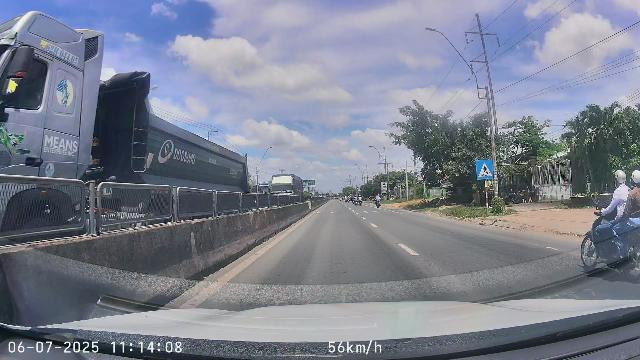423a-duong-nguoi-di-bo-sang-ngang-1: (476, 160, 493, 179)
